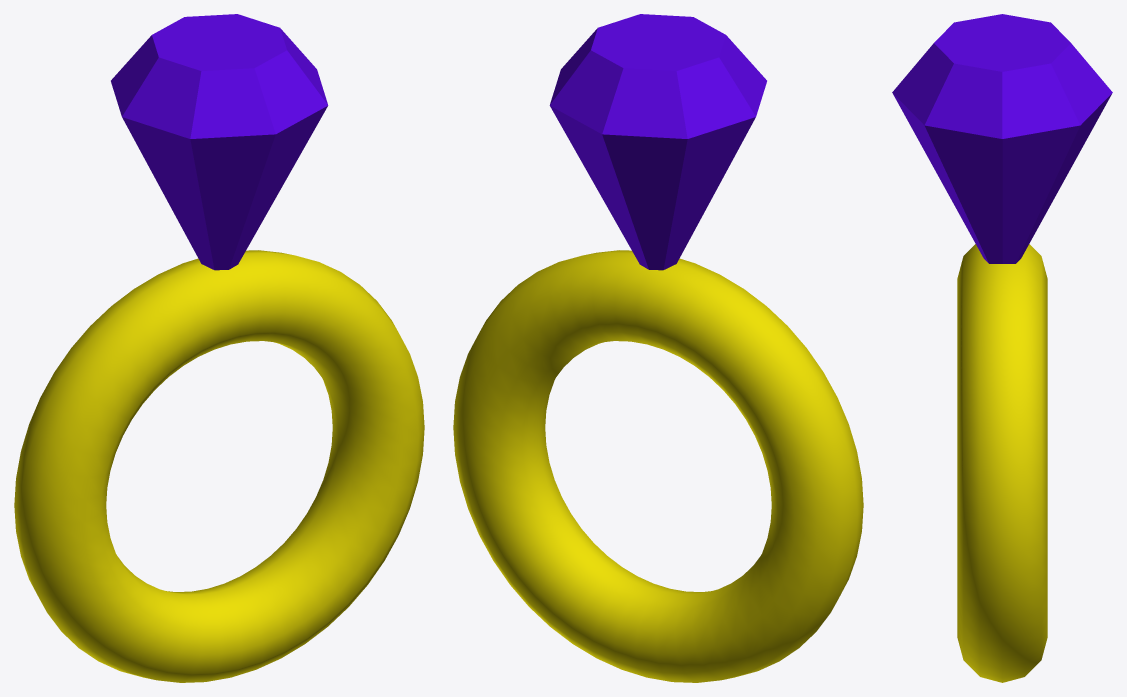
File: HeirloomRing.fbx
The picture shows the model from 3 angles, left to right: view 1: azimuth 30°, elevation 25°; view 2: azimuth 150°, elevation 25°; view 3: azimuth 270°, elevation 25°; orthographic projection. The views are drawn at different scales.
Visible parts, largest first — view 1: Torus, Cone; view 2: Torus, Cone; view 3: Torus, Cone.
Part boxes in pixels (left/top/right/bottom): Torus: left=14, top=250, right=424, bottom=682; Cone: left=111, top=14, right=328, bottom=270; Torus: left=453, top=250, right=863, bottom=682; Cone: left=549, top=14, right=766, bottom=270; Torus: left=957, top=244, right=1047, bottom=682; Cone: left=892, top=14, right=1112, bottom=263.
Bounding box in the file's own units: 25.29 × 38.39 × 12.4.
